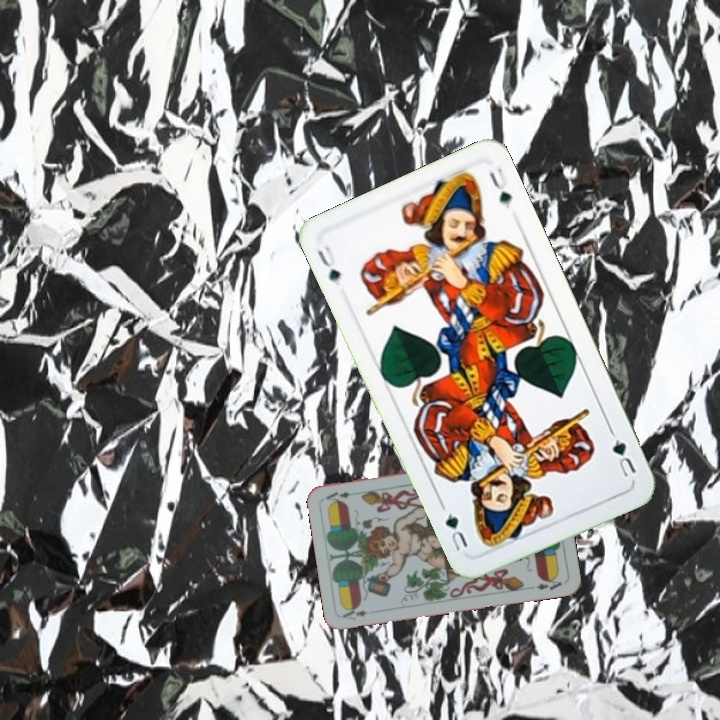EA: (338, 603, 379, 623)
GU: (313, 241, 344, 288), (608, 434, 639, 480)
